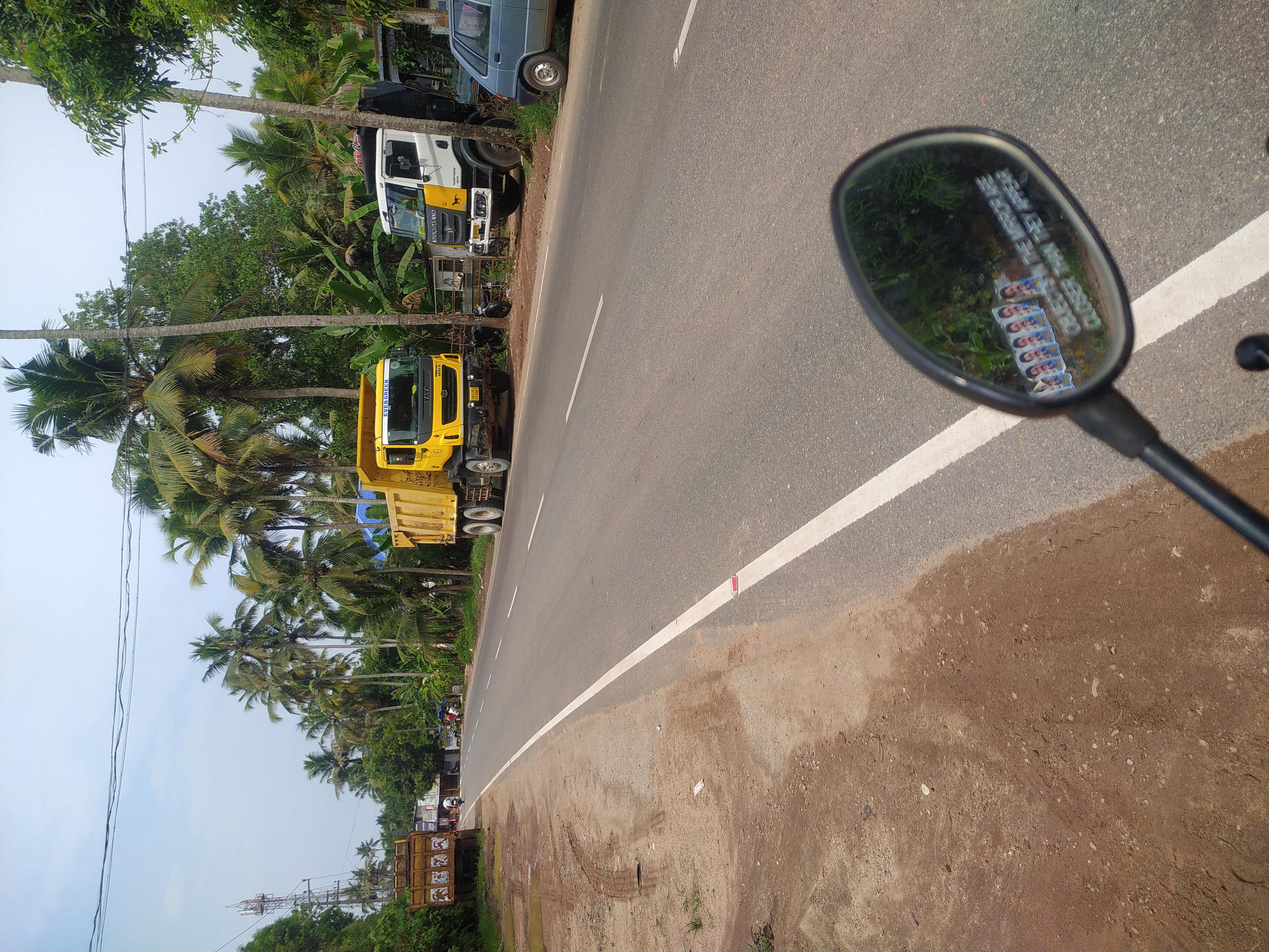License-Plate: (736, 353, 753, 359), (951, 355, 969, 359)
